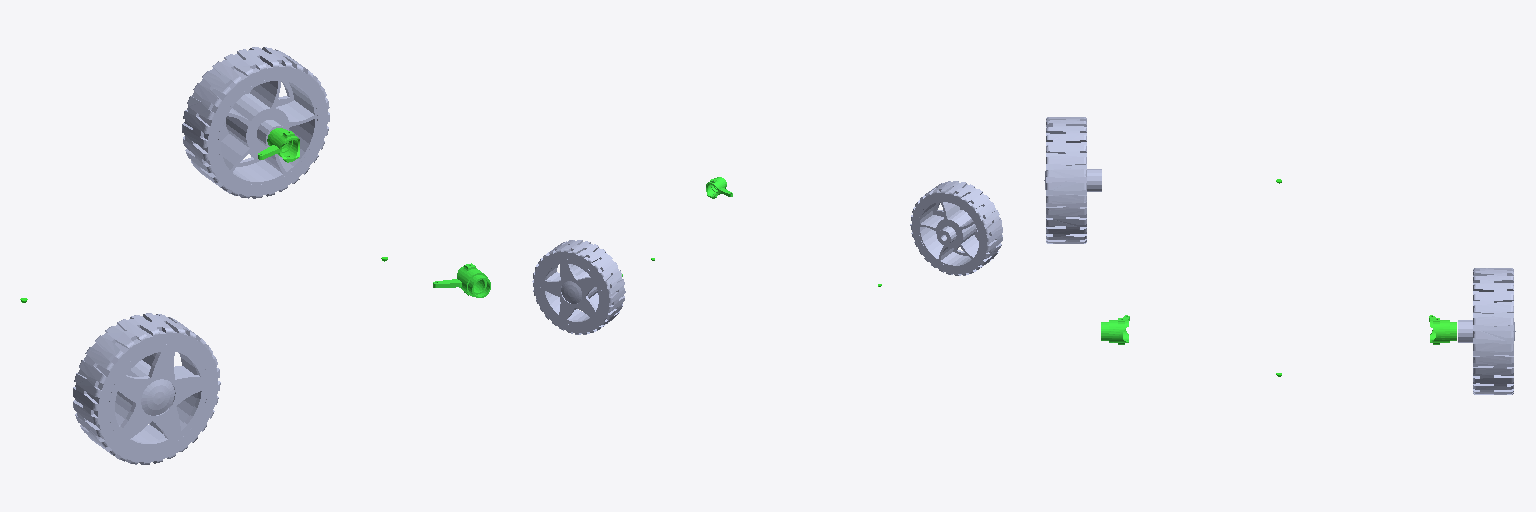
The robot description file, URDF, robot "cooneo_mini":
<?xml version="1.0" encoding="utf-8"?>
<!-- This URDF was automatically created by SolidWorks to URDF Exporter! Originally created by [author] ([email redacted]) 
     Commit Version: 1.5.1-0-g916b5db  Build Version: 1.5.7152.31018
     For more information, please see http://wiki.ros.org/sw_urdf_exporter -->
<robot
  name="cooneo_mini">
  <link
    name="base_link">
    <inertial>
      <origin
        xyz="0.030649671440691 -1.79069899872708E-05 0.0558717976709459"
        rpy="0 0 0" />
      <mass
        value="1.72617713171385" />
      <inertia
        ixx="0.0107311274569357"
        ixy="-3.24164649120244E-08"
        ixz="0.00169188715816868"
        iyy="0.0198871551919603"
        iyz="2.40252669081509E-07"
        izz="0.0269841937242323" />
    </inertial>
    <visual>
      <origin
        xyz="0 0 0"
        rpy="0 0 0" />
      <geometry>
        <mesh
          filename="package://cooneo_mini/meshes/base_link.STL" />
      </geometry>
      <material
        name="">
        <color
          rgba="0.250980392156863 0.250980392156863 0.250980392156863 1" />
      </material>
    </visual>
    <collision>
      <origin
        xyz="0 0 0"
        rpy="0 0 0" />
      <geometry>
        <mesh
          filename="package://cooneo_mini/meshes/base_link.STL" />
      </geometry>
    </collision>
  </link>
  <link
    name="rear_wheel_link">
    <inertial>
      <origin
        xyz="-8.88178419700125E-16 -2.05391259555654E-14 -0.00112500000001892"
        rpy="0 0 0" />
      <mass
        value="5.65486677646169E-05" />
      <inertia
        ixx="1.32005796313028E-10"
        ixy="-1.938704560671E-27"
        ixz="2.13770572261755E-26"
        iyy="1.32005796313028E-10"
        iyz="-7.60216295195271E-25"
        izz="2.03575203952622E-10" />
    </inertial>
    <visual>
      <origin
        xyz="0 0 0"
        rpy="0 0 0" />
      <geometry>
        <mesh
          filename="package://cooneo_mini/meshes/rear_wheel_link.STL" />
      </geometry>
      <material
        name="">
        <color
          rgba="0.274509803921569 1 0.247058823529412 1" />
      </material>
    </visual>
    <collision>
      <origin
        xyz="0 0 0"
        rpy="0 0 0" />
      <geometry>
        <mesh
          filename="package://cooneo_mini/meshes/rear_wheel_link.STL" />
      </geometry>
    </collision>
  </link>
  <joint
    name="rear_wheel_joint"
    type="continuous">
    <origin
      xyz="-0.181499999999597 0 0.0399999999987674"
      rpy="0 0 0" />
    <parent
      link="base_link" />
    <child
      link="rear_wheel_link" />
    <axis
      xyz="0 1 0" />
  </joint>
  <link
    name="left_rear_link">
    <inertial>
      <origin
        xyz="7.85229659072684E-11 -0.0196762547002777 4.85059770127805E-11"
        rpy="0 0 0" />
      <mass
        value="0.29556182905038" />
      <inertia
        ixx="0.000374087423652291"
        ixy="2.19336154342606E-13"
        ixz="-5.50404301757561E-12"
        iyy="0.000661017199375587"
        iyz="-5.10049385981967E-14"
        izz="0.000374087441459994" />
    </inertial>
    <visual>
      <origin
        xyz="0 0 0"
        rpy="0 0 0" />
      <geometry>
        <mesh
          filename="package://cooneo_mini/meshes/left_rear_link.STL" />
      </geometry>
      <material
        name="">
        <color
          rgba="0.792156862745098 0.819607843137255 0.933333333333333 1" />
      </material>
    </visual>
    <collision>
      <origin
        xyz="0 0 0"
        rpy="0 0 0" />
      <geometry>
        <mesh
          filename="package://cooneo_mini/meshes/left_rear_link.STL" />
      </geometry>
    </collision>
  </link>
  <joint
    name="left_rear_joint"
    type="continuous">
    <origin
      xyz="-0.181499999999595 0.228542434993694 0.0399999999991634"
      rpy="0 0 0" />
    <parent
      link="base_link" />
    <child
      link="left_rear_link" />
    <axis
      xyz="0 1 0" />
    <limit
      lower="-3.14"
      upper="3.14"
      effort="0"
      velocity="0" />
  </joint>
  <link
    name="right_rear_link">
    <inertial>
      <origin
        xyz="7.8521189550429E-11 0.0196762545376323 3.35983463273237E-11"
        rpy="0 0 0" />
      <mass
        value="0.295561829050389" />
      <inertia
        ixx="0.000374087423652306"
        ixy="-2.1933774523493E-13"
        ixz="5.50404145624456E-12"
        iyy="0.000661017199375601"
        iyz="-5.10073974604221E-14"
        izz="0.000374087441459995" />
    </inertial>
    <visual>
      <origin
        xyz="0 0 0"
        rpy="0 0 0" />
      <geometry>
        <mesh
          filename="package://cooneo_mini/meshes/right_rear_link.STL" />
      </geometry>
      <material
        name="">
        <color
          rgba="0.792156862745098 0.819607843137255 0.933333333333333 1" />
      </material>
    </visual>
    <collision>
      <origin
        xyz="0 0 0"
        rpy="0 0 0" />
      <geometry>
        <mesh
          filename="package://cooneo_mini/meshes/right_rear_link.STL" />
      </geometry>
    </collision>
  </link>
  <joint
    name="right_rear_joint"
    type="continuous">
    <origin
      xyz="-0.181499999999595 -0.228542434994426 0.0399999999991584"
      rpy="0 0 0" />
    <parent
      link="base_link" />
    <child
      link="right_rear_link" />
    <axis
      xyz="0 1 0" />
    <limit
      lower="-3.14"
      upper="3.14"
      effort="0"
      velocity="0" />
  </joint>
  <link
    name="front_steer_link">
    <inertial>
      <origin
        xyz="-2.1316282072803E-14 3.67778030252452E-11 -0.00112486602459905"
        rpy="0 0 0" />
      <mass
        value="5.65486677646163E-05" />
      <inertia
        ixx="1.32005796313026E-10"
        ixy="1.16322273640277E-26"
        ixz="1.20446157864484E-28"
        iyy="1.32005796313026E-10"
        iyz="-8.66481261175625E-27"
        izz="2.03575203952619E-10" />
    </inertial>
    <visual>
      <origin
        xyz="0 0 0"
        rpy="0 0 0" />
      <geometry>
        <mesh
          filename="package://cooneo_mini/meshes/front_steer_link.STL" />
      </geometry>
      <material
        name="">
        <color
          rgba="0.274509803921569 1 0.247058823529412 1" />
      </material>
    </visual>
    <collision>
      <origin
        xyz="0 0 0"
        rpy="0 0 0" />
      <geometry>
        <mesh
          filename="package://cooneo_mini/meshes/front_steer_link.STL" />
      </geometry>
    </collision>
  </link>
  <joint
    name="front_steer_joint"
    type="revolute">
    <origin
      xyz="0.172883370897628 0 -0.00376561854722868"
      rpy="0 0 0" />
    <parent
      link="base_link" />
    <child
      link="front_steer_link" />
    <axis
      xyz="0 0 1" />
    <limit
      lower="0"
      upper="0"
      effort="0"
      velocity="0" />
  </joint>
  <link 
    name="front_steer_right_link">
    <inertial>
      <origin
        xyz="-0.00287984917571293 -0.00386608730391069 -3.40232166884391E-07"
        rpy="0 0 0" />
      <mass
        value="0.0040422891288534" />
      <inertia
        ixx="3.86012893948649E-07"
        ixy="1.06107136042318E-07"
        ixz="3.79981674665978E-12"
        iyy="5.70282019991041E-07"
        iyz="-5.11429253547313E-13"
        izz="5.85222511682915E-07" />
    </inertial>
    <visual>
      <origin
        xyz="0 0 0"
        rpy="0 0 0" />
      <geometry>
        <mesh
          filename="package://cooneo_mini/meshes/front_steer_right_link.STL" />
      </geometry>
      <material
        name="">
        <color
          rgba="0.309803921568627 1 0.333333333333333 1" />
      </material>
    </visual>
    <collision>
      <origin
        xyz="0 0 0"
        rpy="0 0 0" />
      <geometry>
        <mesh
          filename="package://cooneo_mini/meshes/front_steer_right_link.STL" />
      </geometry>
    </collision>
  </link>
  <joint
    name="front_steer_right_joint"
    type="revolute">
    <origin
      xyz="0.166956116911345 -0.155841156930144 0.0396253020756132"
      rpy="0 0 0" />
    <parent
      link="base_link" />
    <child
      link="front_steer_right_link" />
    <axis
      xyz="0 0 1" />   <!-- xyz=0 0 -1 -->
    <limit
      lower="-0.72"
      upper="0.72"
      effort="0"
      velocity="0" />
  </joint>
  <link
    name="front_right_wheel_link">
    <inertial>
      <origin
        xyz="9.44636555644252E-08 -0.000295273745285485 -8.13046296954667E-11"
        rpy="0 0 0" />
      <mass
        value="0.296315811300368" />
      <inertia
        ixx="0.000374692013709393"
        ixy="-9.17172260383823E-08"
        ixz="-2.43187512356516E-12"
        iyy="0.000661029987747155"
        iyz="1.9736939507106E-13"
        izz="0.000374691963930348" />
    </inertial>
    <visual>
      <origin
        xyz="0 0 0"
        rpy="0 0 0" />
      <geometry>
        <mesh
          filename="package://cooneo_mini/meshes/front_right_wheel_link.STL" />
      </geometry>
      <material
        name="">
        <color
          rgba="0.792156862745098 0.819607843137255 0.933333333333333 1" />
      </material>
    </visual>
    <collision>
      <origin
        xyz="0 0 0"
        rpy="0 0 0" />
      <geometry>
        <mesh
          filename="package://cooneo_mini/meshes/front_right_wheel_link.STL" />
      </geometry>
    </collision>
  </link>
  <joint
    name="front_right_wheel_joint"
    type="continuous">
    <origin
      xyz="0.000561692482209608 -0.0539588407104827 0"
      rpy="0 0 0" />
    <parent
      link="front_steer_right_link" />
    <child
      link="front_right_wheel_link" />
    <axis
      xyz="-0.000320310780620463 0.999999948700501 0" />
  </joint>
  <link
    name="front_steer_left_link">
    <inertial>
      <origin
        xyz="-0.00288108186855052 0.00386516380026081 3.42000268327425E-07"
        rpy="0 0 0" />
      <mass
        value="0.00404229099686961" />
      <inertia
        ixx="3.86080919831873E-07"
        ixy="-1.06166007770352E-07"
        ixz="-3.89689093687787E-12"
        iyy="5.70214085517416E-07"
        iyz="-5.05814872179496E-13"
        izz="5.85222543205337E-07" />
    </inertial>
    <visual>
      <origin
        xyz="0 0 0"
        rpy="0 0 0" />
      <geometry>
        <mesh
          filename="package://cooneo_mini/meshes/front_steer_left_link.STL" />
      </geometry>
      <material
        name="">
        <color
          rgba="0.333333333333333 1 0.309803921568627 1" />
      </material>
    </visual>
    <collision>
      <origin
        xyz="0 0 0"
        rpy="0 0 0" />
      <geometry>
        <mesh
          filename="package://cooneo_mini/meshes/front_steer_left_link.STL" />
      </geometry>
    </collision>
  </link>
  <joint
    name="front_steer_left_joint"
    type="revolute">
    <origin
      xyz="0.166955591258992 0.155840982540987 0.039624698003177"
      rpy="0 0 0" />
    <parent
      link="base_link" />
    <child
      link="front_steer_left_link" />
    <axis
      xyz="0 0 1" />   <!-- xyz= 0 0 -1-->
    <limit
      lower="-0.72"
      upper="0.72"
      effort="0"
      velocity="0" />
  </joint>
  <link
    name="front_left_wheel_link">
    <inertial>
      <origin
        xyz="-3.99413835339146E-11 0.000295273997845347 1.08602016268833E-10"
        rpy="0 0 0" />
      <mass
        value="0.296315811293944" />
      <inertia
        ixx="0.00037469197851121"
        ixy="-1.84493877596723E-13"
        ixz="-9.50756757097929E-12"
        iyy="0.00066103001709398"
        iyz="-1.17866882205563E-13"
        izz="0.000374691969713977" />
    </inertial>
    <visual>
      <origin
        xyz="0 0 0"
        rpy="0 0 0" />
      <geometry>
        <mesh
          filename="package://cooneo_mini/meshes/front_left_wheel_link.STL" />
      </geometry>
      <material
        name="">
        <color
          rgba="0.792156862745098 0.819607843137255 0.933333333333333 1" />
      </material>
    </visual>
    <collision>
      <origin
        xyz="0 0 0"
        rpy="0 0 0" />
      <geometry>
        <mesh
          filename="package://cooneo_mini/meshes/front_left_wheel_link.STL" />
      </geometry>
    </collision>
  </link>
  <joint
    name="front_left_wheel_joint"
    type="continuous">
    <origin
      xyz="0.000544408740910995 0.0539590174648373 0"
      rpy="0 0 0" />
    <parent
      link="front_steer_left_link" />
    <child
      link="front_left_wheel_link" />
    <axis
      xyz="0 1 0" />   <!-- xyz="0 -1 0"-->
  </joint>
</robot>

--- What the picture shows (computed from the rendered views, not written in the file) ---
3 views of the same robot in one strip: view 1: azimuth 30°, elevation 25°; view 2: azimuth 150°, elevation 25°; view 3: azimuth 270°, elevation 25° (orthographic).
Robot: cooneo_mini — 9 links, 8 joints (3 revolute, 5 continuous); root link base_link; default pose: every joint at zero.
Visible links, largest first — view 1: right_rear_link, front_left_wheel_link, front_steer_right_link, front_steer_left_link; view 2: front_left_wheel_link, right_rear_link; view 3: right_rear_link, front_left_wheel_link, front_steer_right_link, front_steer_left_link.
Boxes of the visible links, left/top/right/bottom form: right_rear_link: left=73, top=313, right=220, bottom=464; front_left_wheel_link: left=182, top=47, right=329, bottom=198; front_steer_right_link: left=433, top=263, right=490, bottom=297; front_steer_left_link: left=258, top=128, right=299, bottom=162; front_left_wheel_link: left=532, top=240, right=625, bottom=334; right_rear_link: left=910, top=181, right=1002, bottom=275; right_rear_link: left=1044, top=117, right=1101, bottom=243; front_left_wheel_link: left=1458, top=268, right=1515, bottom=394; front_steer_right_link: left=1101, top=315, right=1129, bottom=344; front_steer_left_link: left=1429, top=315, right=1456, bottom=344.
Size in the robot's own frame: 0.474 by 0.4614 by 0.1253 metres.
6 mesh visuals loaded from 9 distinct referenced files (6 binary STL); not drawn: 3 (reference not matched to a file when rendering).
